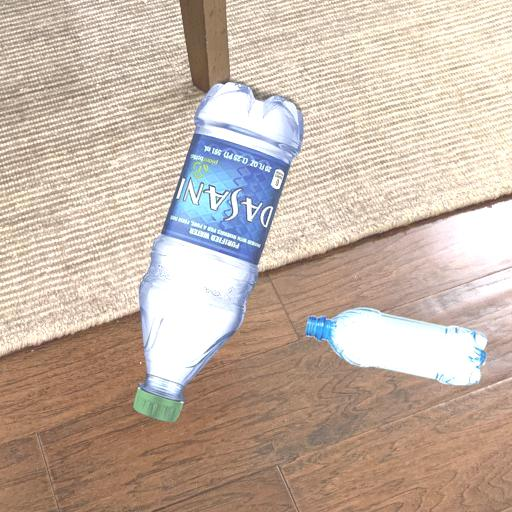bottle: (126, 70, 308, 429), (307, 292, 496, 390)
